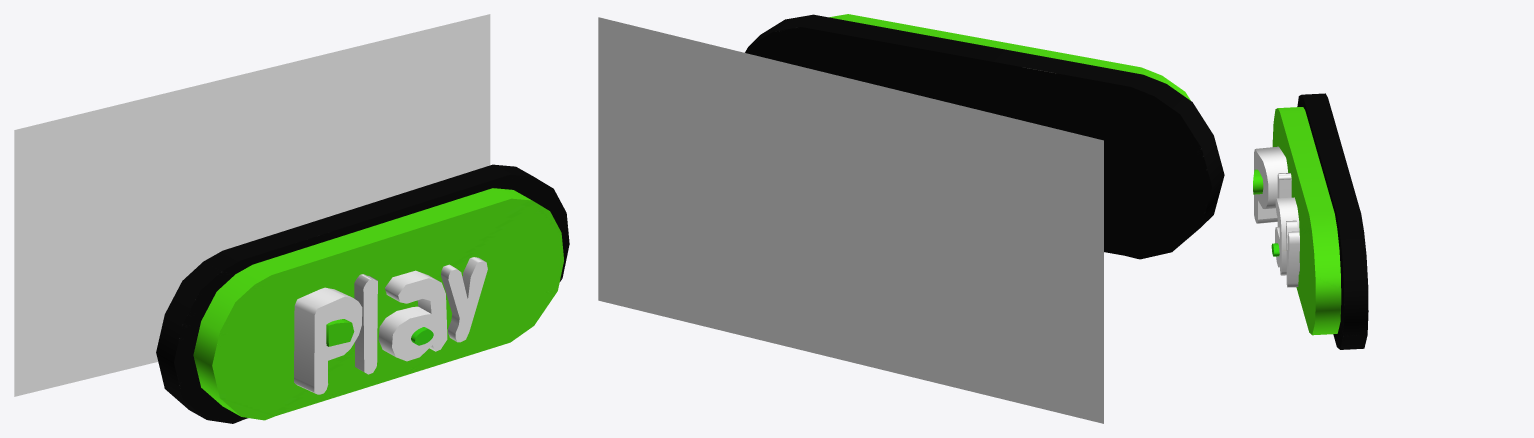
File: Play Button.glb
3 renders of one model, left to right at view 1: azimuth 30°, elevation 25°; view 2: azimuth 150°, elevation 25°; view 3: azimuth 270°, elevation 25°, orthographic. The views are drawn at different scales.
Parts seen in each view (by area): view 1: object 1, node_id164, node_id161, node_id89, node_id187, node_id90; view 2: object 1, node_id164; view 3: node_id164, node_id89, node_id161, node_id187.
Boxes of the visible parts, x1,y1,x2,y2 form: object 1: (14,14,490,396); node_id164: (156,164,569,423); node_id161: (354,270,447,374); node_id89: (294,287,362,394); node_id187: (411,257,487,345); node_id90: (326,319,354,346); object 1: (598,17,1103,423); node_id164: (745,14,1224,259); node_id164: (1272,93,1368,349); node_id89: (1254,146,1287,223); node_id161: (1275,173,1299,275); node_id187: (1271,220,1299,287).
Bounding box in the file's own units: 0.379 × 0.203 × 0.2241.
Materials: 9 (9 with a texture image).
